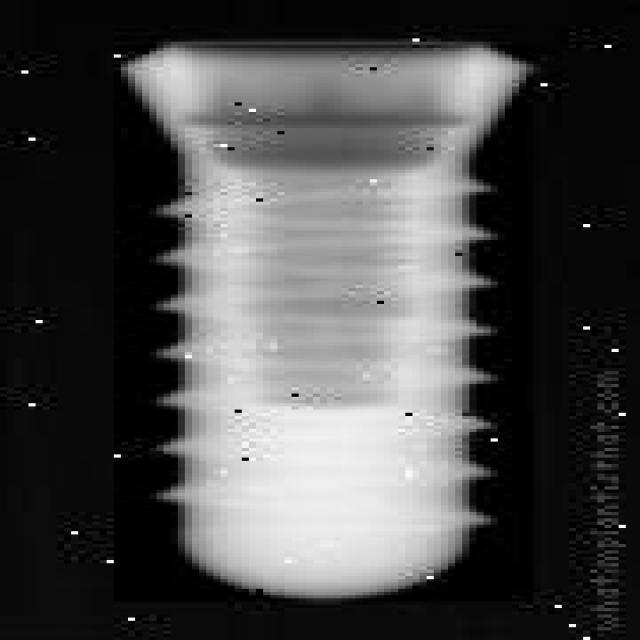Root canal filling: (114, 45, 533, 602)
